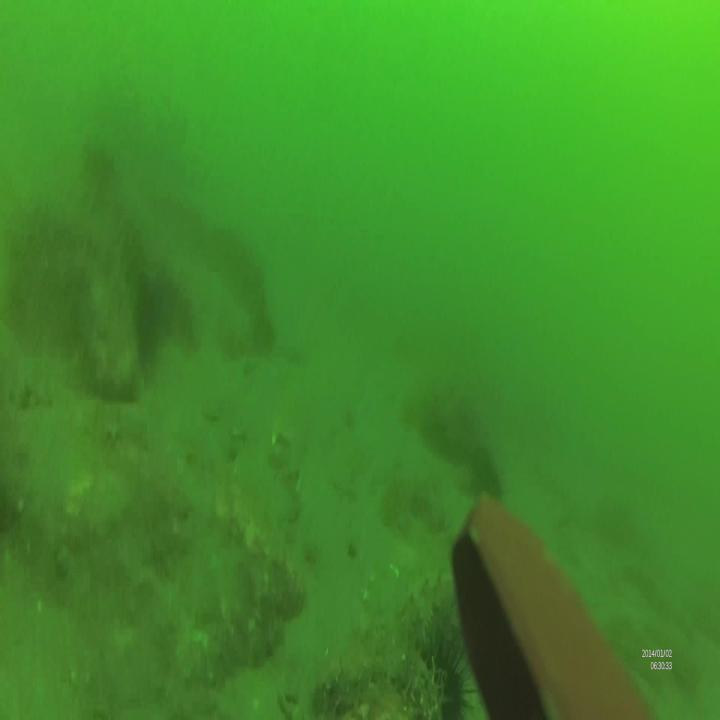echinus: (418, 622, 478, 720)
